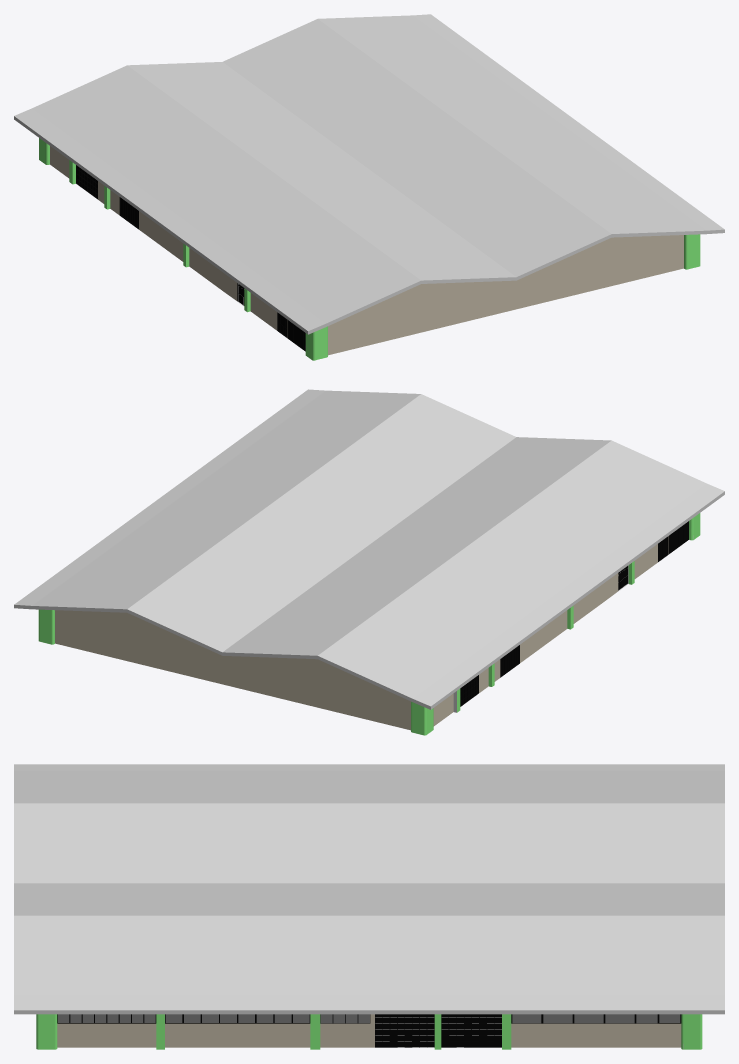
The model's file is EDIFICIOINDUSTRIAL.glb.
3 views of the same model, one above another, from view 1: azimuth 30°, elevation 25°; view 2: azimuth 150°, elevation 25°; view 3: azimuth 270°, elevation 25° (orthographic). The views are drawn at different scales.
Parts seen in each view (by area): view 1: Cube; view 2: Cube; view 3: Cube.
Part boxes in pixels (x1=…): Cube: x1=14, y1=14, x2=724, y2=360; Cube: x1=14, y1=389, x2=724, y2=735; Cube: x1=14, y1=764, x2=724, y2=1049.
Bounding box in the file's own units: 22 × 3.19 × 26.88.
